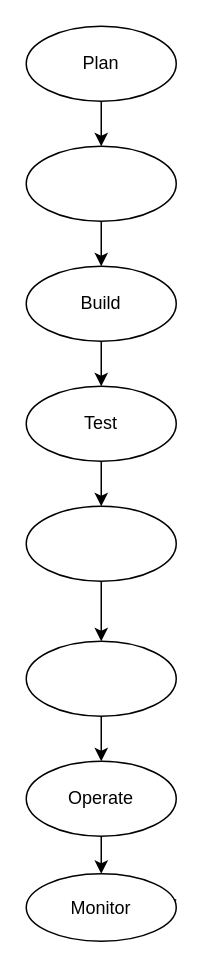
Some shapes in this 215 by 968 pixel diagram are drawn without their labels. The centre of each missing label's shape, as x and y in pixels:
"Deploy" belongs at (100,678).
"Develp" belongs at (100,183).
"Release" belongs at (100,543).
